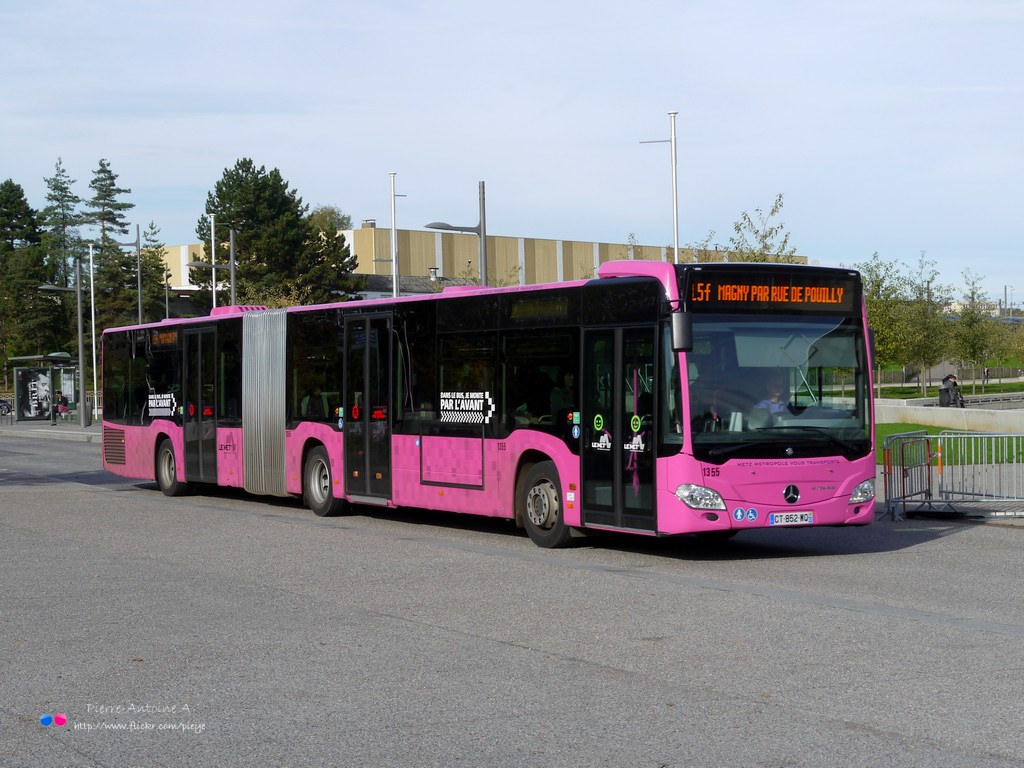front_view: (25, 58, 158, 125)
headlight: (35, 68, 77, 93)
side_glass: (15, 10, 25, 34)
